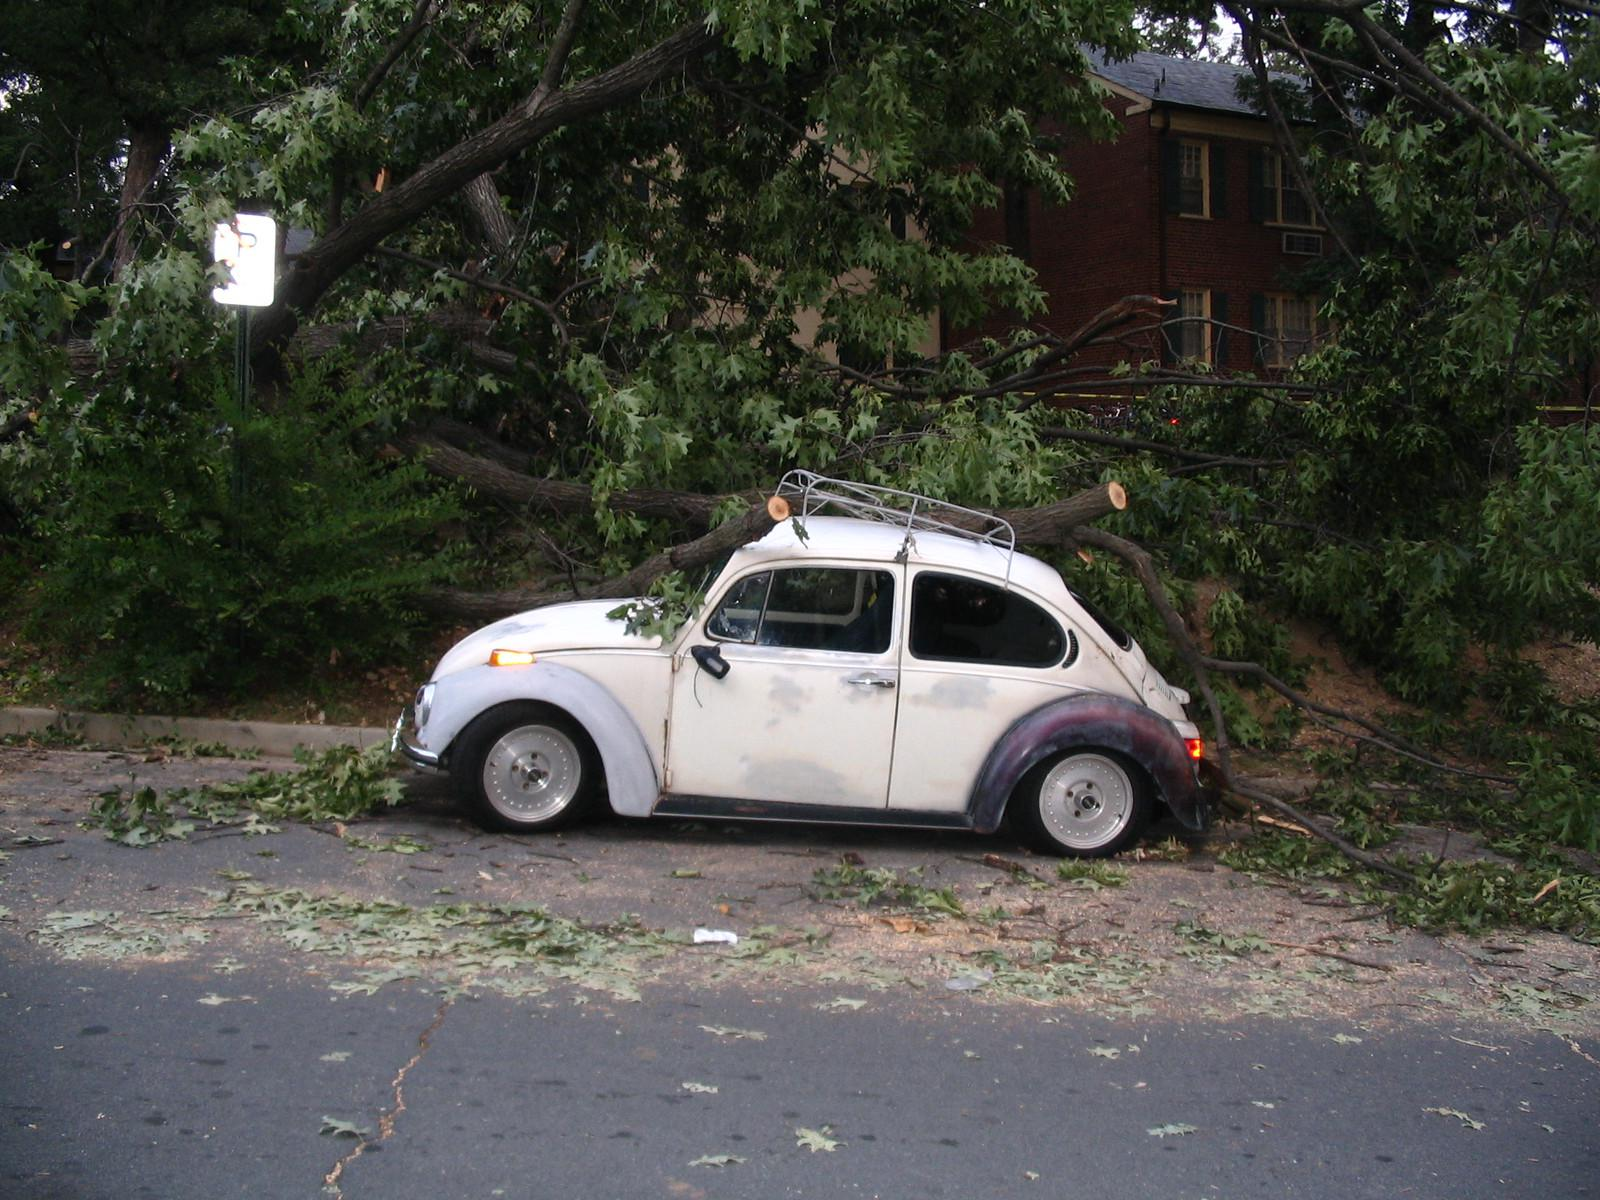doorouter-dent: (700, 567, 897, 807)
